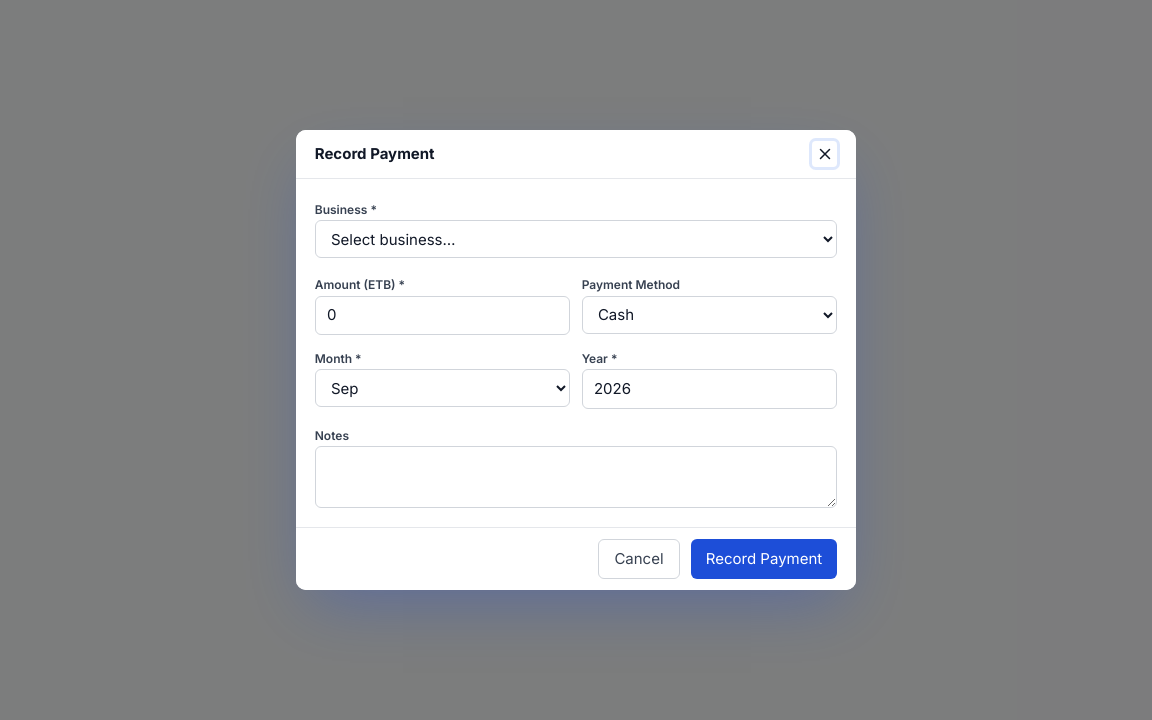
Payment form validation (real component) › validates amount: rejects zero/negative amount
This screenshot has width=1152, height=720.
// select business
Select "ABC Shop — Zone 10 (K05)" in the dropdown labelled "Business *": (576, 239) [315,220,837,258]
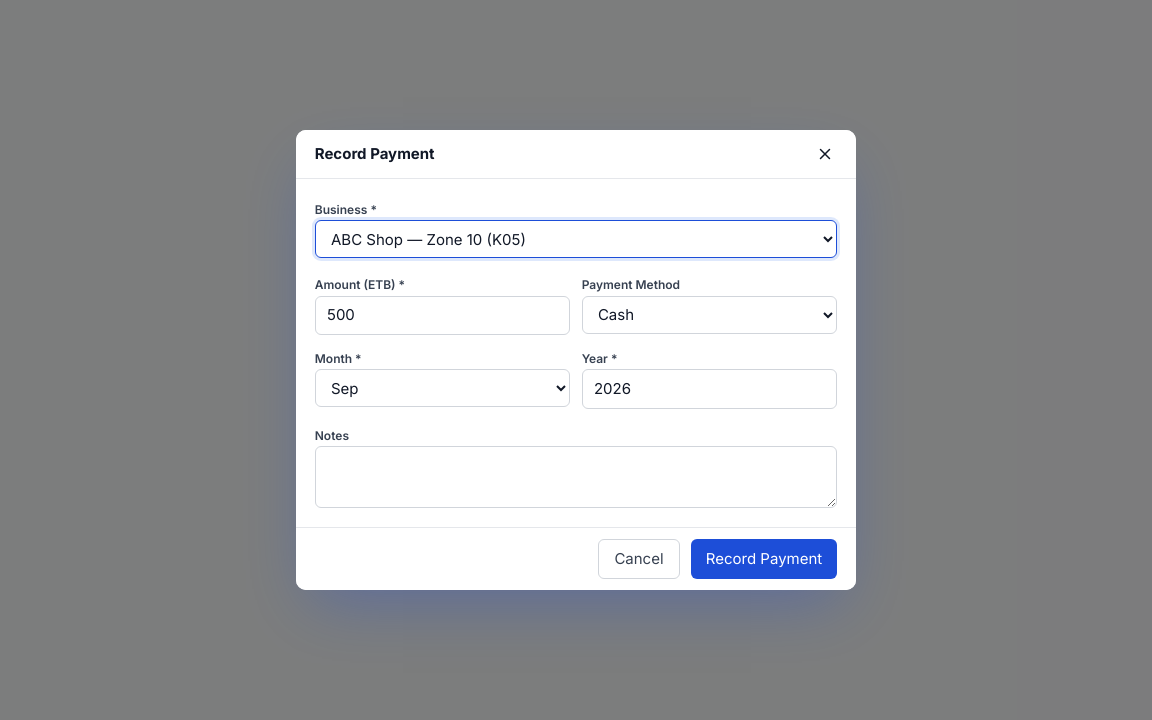
// set amount to 0
Replace the text in the number field labelled "Amount (ETB) *" with "0": (443, 316) [315,296,570,335]
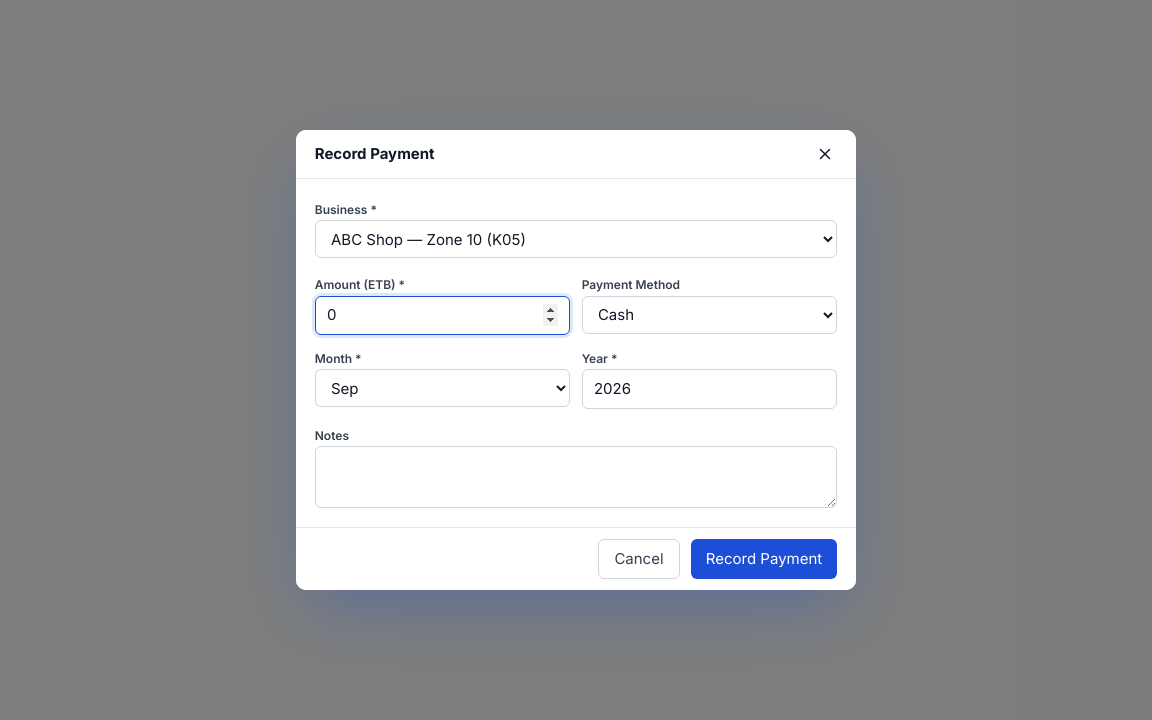
Click the button "Record Payment": click(764, 559) [691,539,837,579]
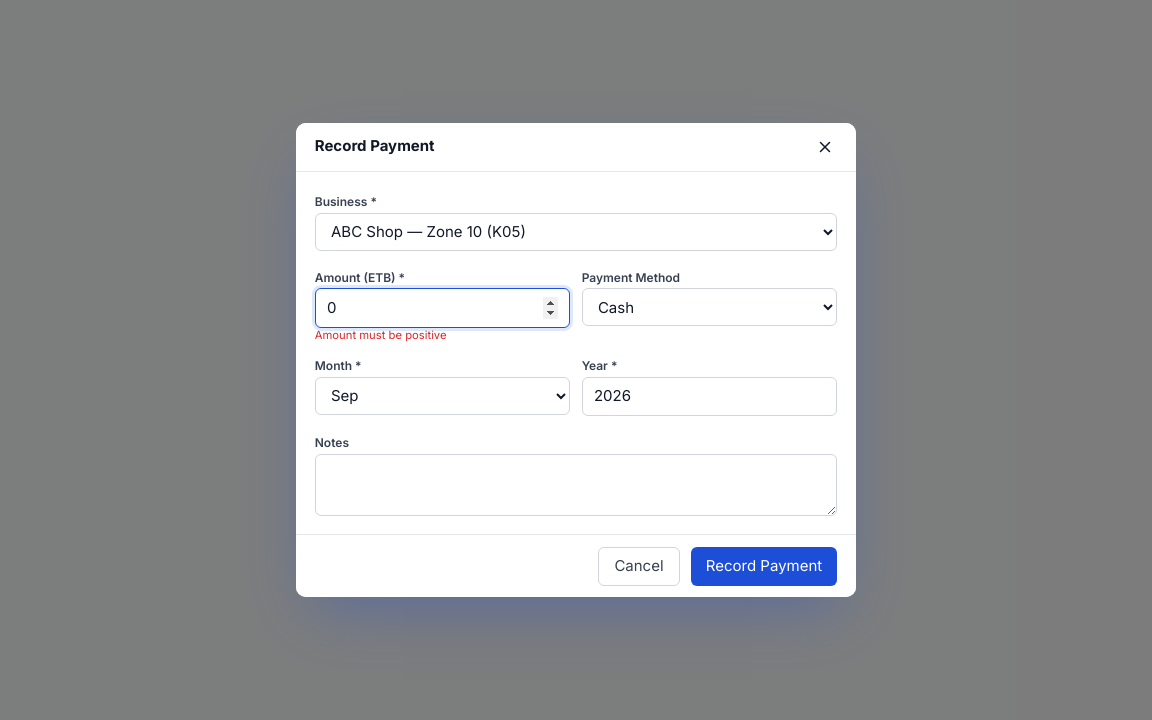
Expected: the text "Amount must be positive" is shown, [315,328,447,342]
